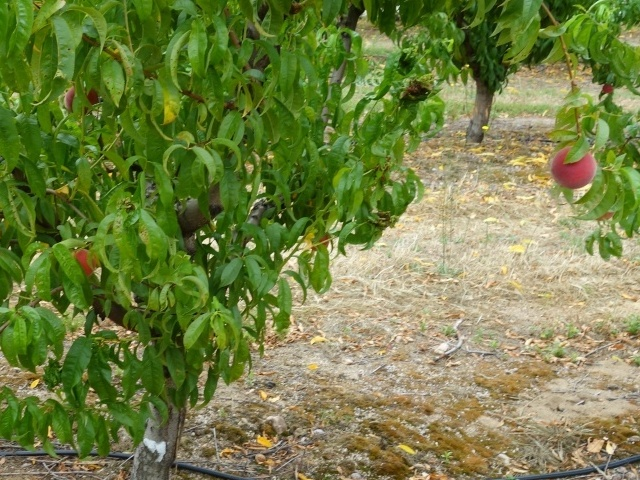peach: (548, 141, 599, 194), (63, 83, 100, 116), (67, 244, 100, 277), (307, 229, 333, 251)
